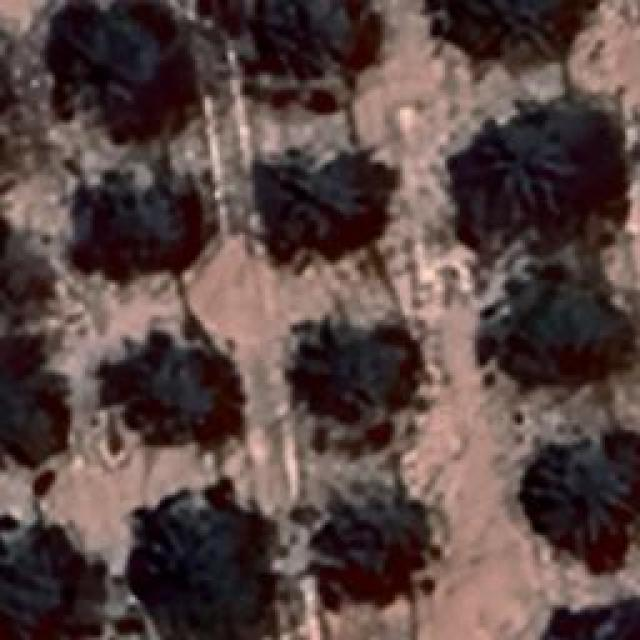PalmTree: (62, 0, 218, 135), (156, 501, 289, 631), (512, 434, 638, 568), (482, 122, 608, 242), (254, 151, 378, 264), (114, 352, 234, 462), (242, 0, 360, 110), (84, 182, 198, 286), (500, 292, 620, 386), (438, 0, 598, 70), (302, 342, 408, 446), (324, 486, 428, 592), (0, 545, 92, 630), (0, 352, 55, 476), (539, 602, 640, 640)
